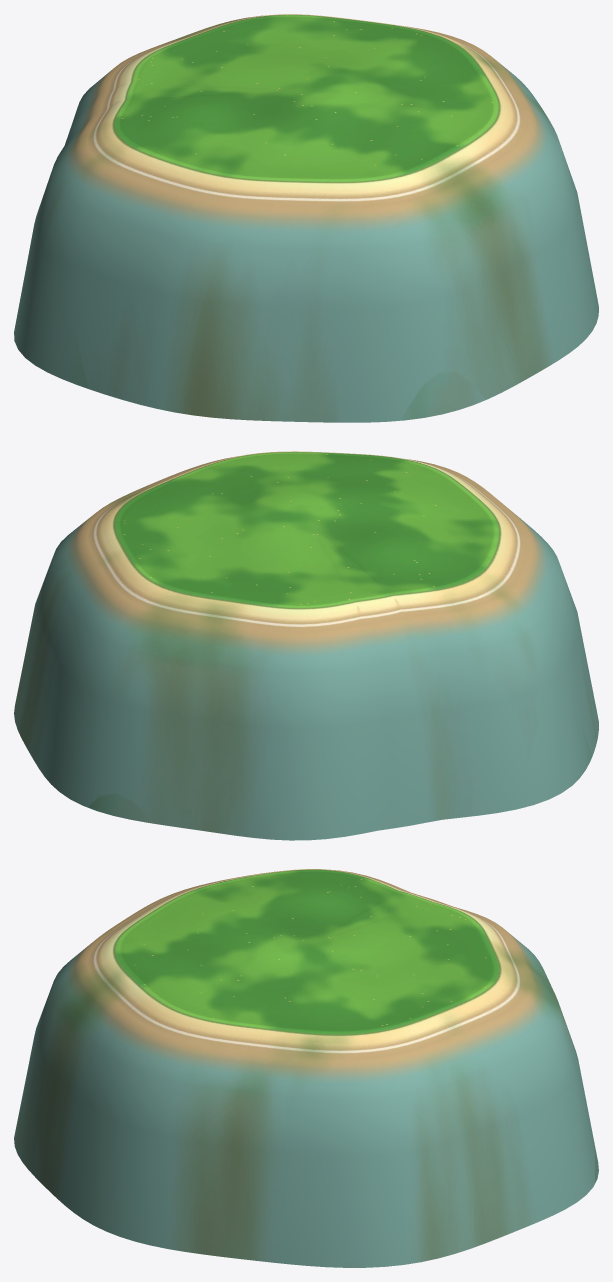
File: flat_1.glb
3 views of the same model, one above another, from view 1: azimuth 30°, elevation 25°; view 2: azimuth 150°, elevation 25°; view 3: azimuth 270°, elevation 25° (orthographic). The views are drawn at different scales.
Visible parts, largest first — view 1: flat_1; view 2: flat_1; view 3: flat_1.
Part boxes in pixels (x1=…): flat_1: x1=14, y1=14, x2=598, y2=422; flat_1: x1=14, y1=451, x2=598, y2=840; flat_1: x1=14, y1=869, x2=598, y2=1267.
Size of the model in its own units: 32.23 by 12.23 by 31.83.
1 material, 1 textured.
